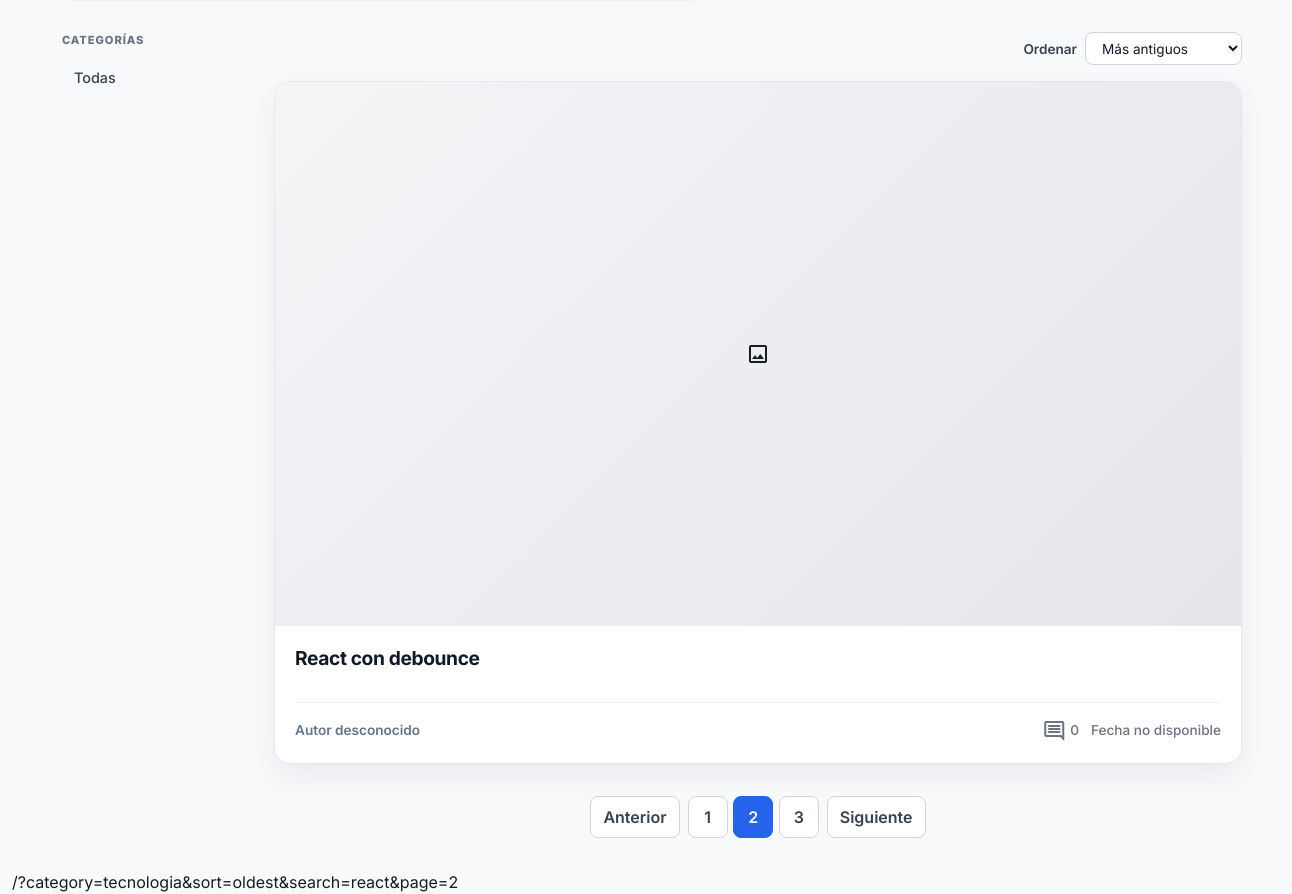
Test: HomePage search › carga búsqueda, categoría, orden y página desde la URL
(page scrolled)
Click the button named "Ir a la página 3".
click(799, 816)  # box [779,796,819,838]
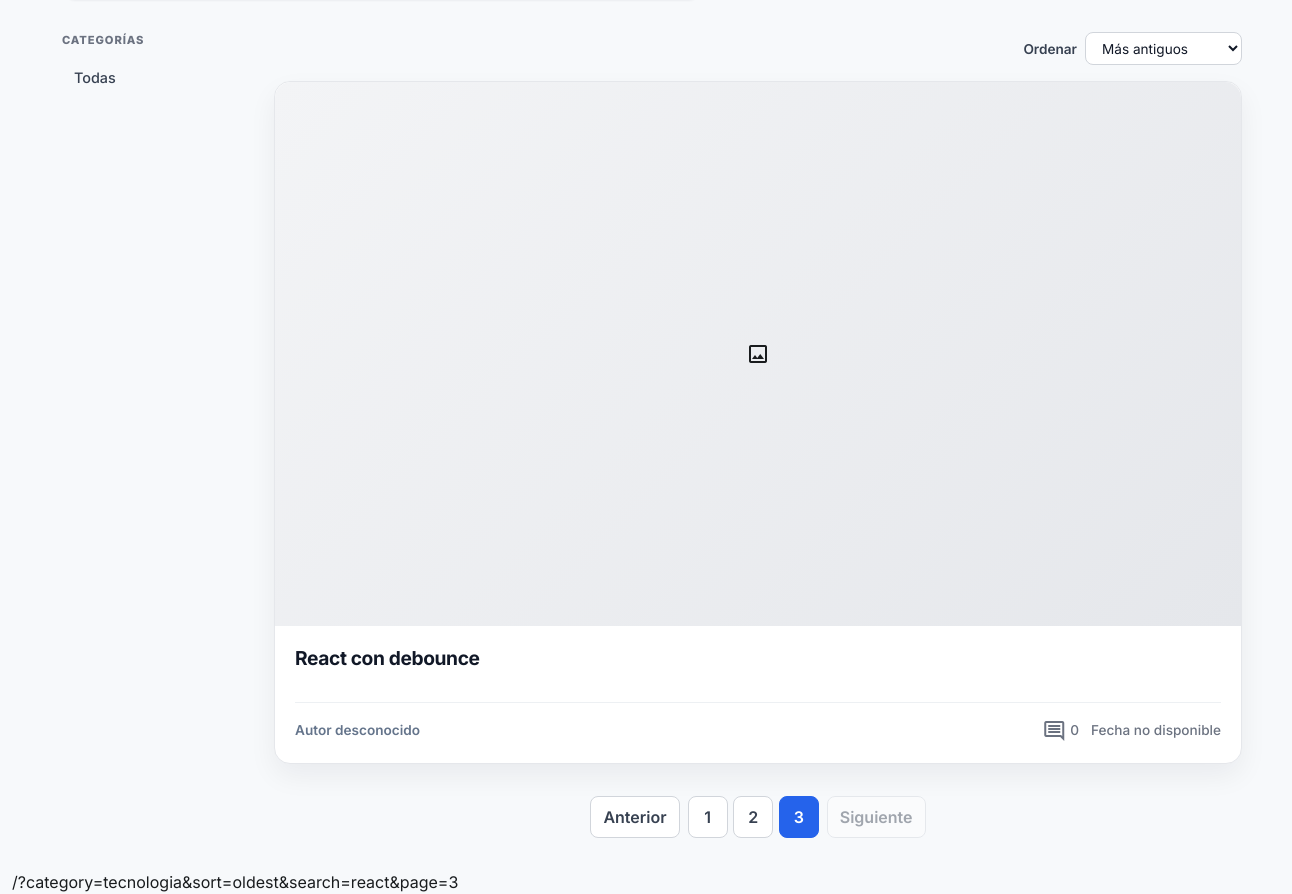
Check: the text named "URL actual" reads "/?category=tecnologia&sort=oldest&search=react&page=3", box [12,872,458,892]
